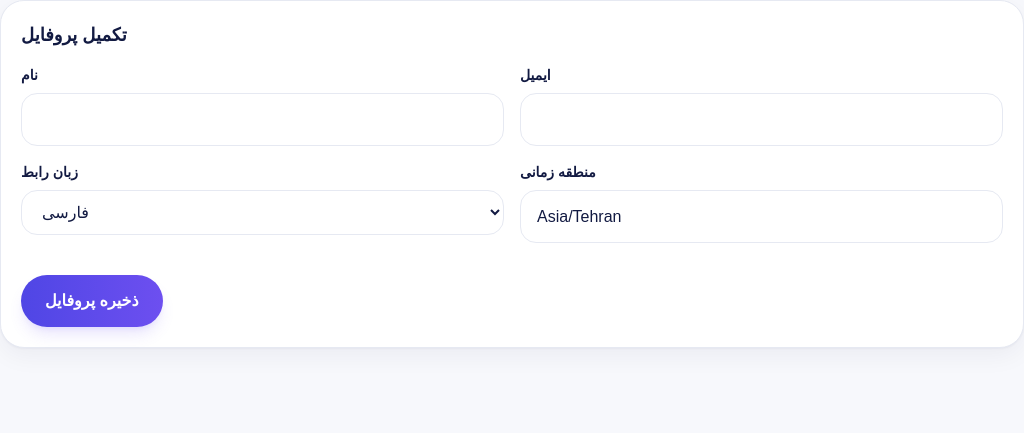
Scenario: PanelActions characterization › preserves the visible error state after an API failure
Type "Sara" into the field labelled "نام" at (262, 120), box [21, 93, 504, 146]
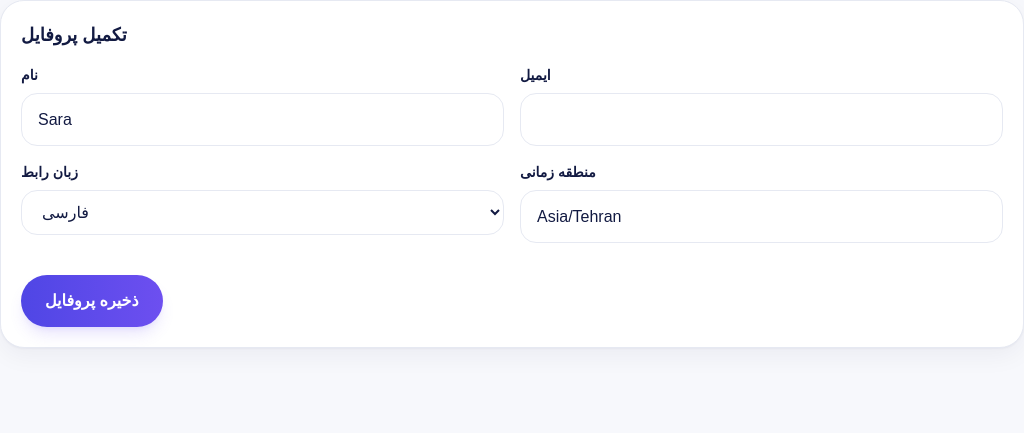
Submit the form, box [21, 65, 1003, 327]
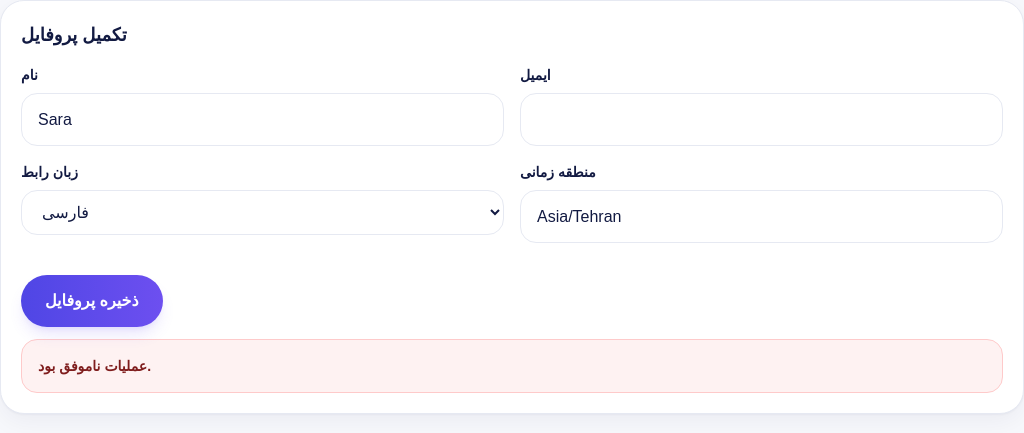
Expected: the message "عملیات ناموفق بود." is shown, [21, 339, 1003, 393]
